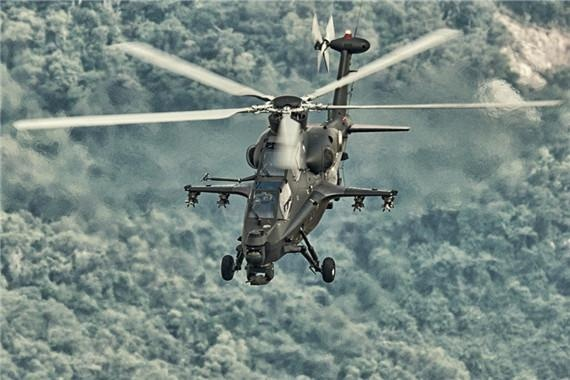airplane: (12, 25, 566, 288)
